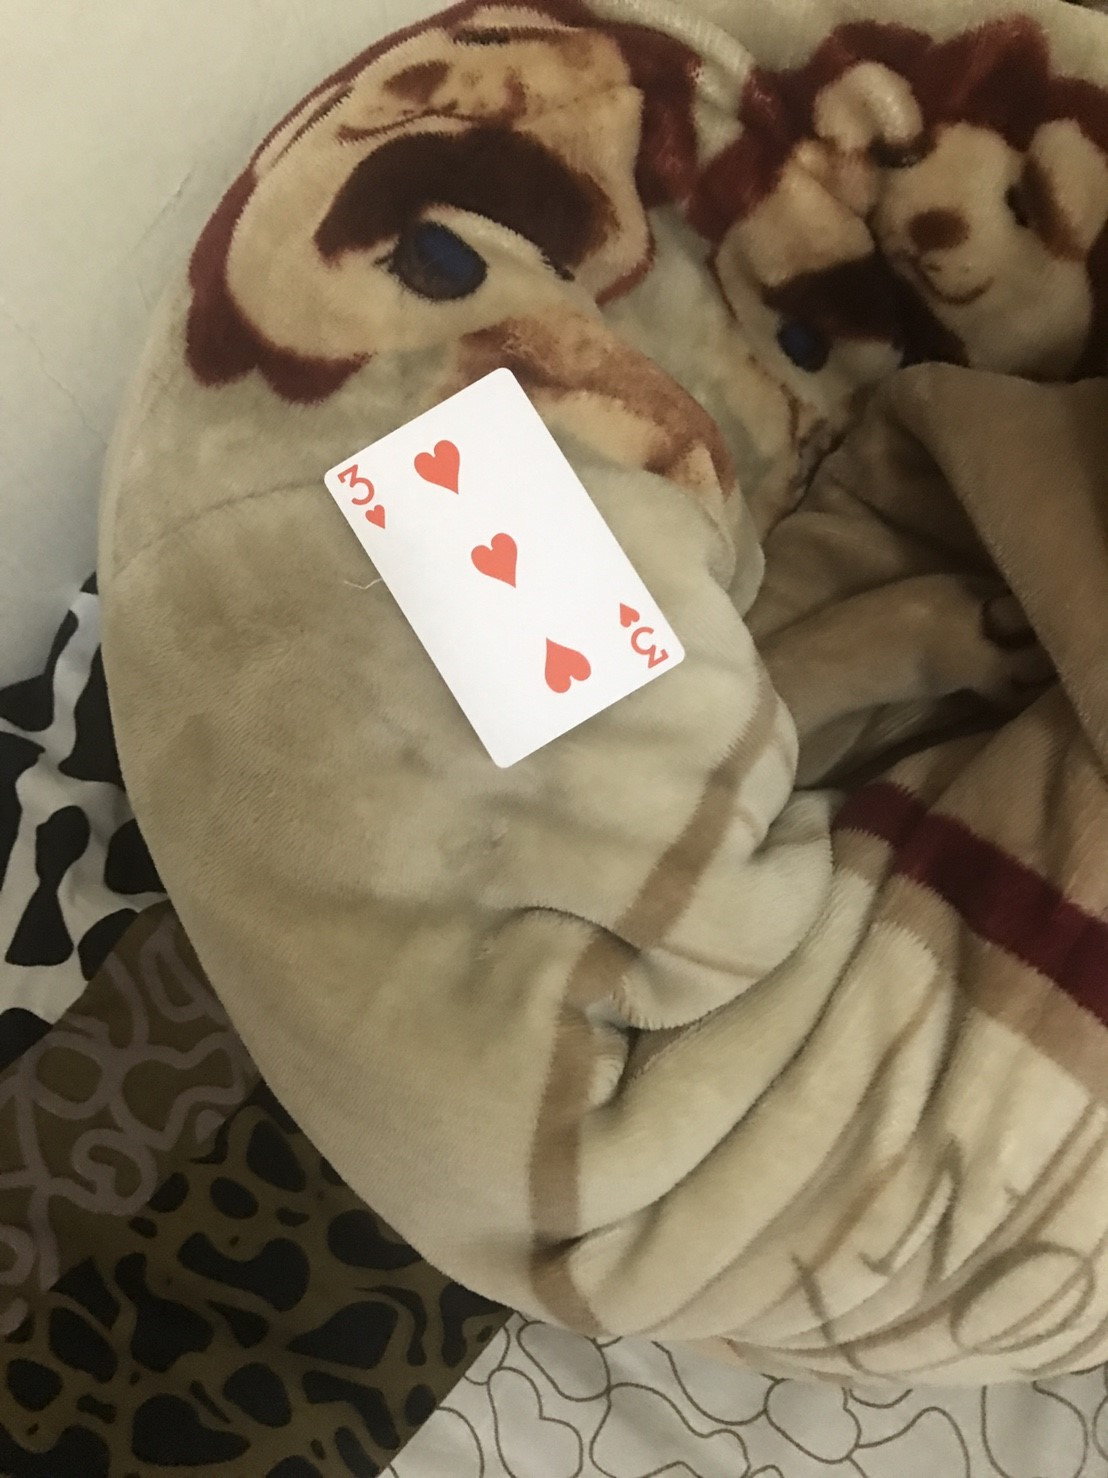hearts: (463, 531, 527, 601), (532, 635, 603, 697), (405, 438, 470, 497), (615, 597, 653, 628), (355, 502, 393, 530)
